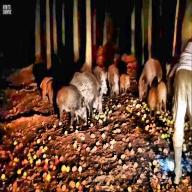boar: (52, 79, 91, 135), (137, 48, 163, 109), (72, 64, 101, 116), (38, 71, 57, 111), (92, 57, 106, 105), (107, 63, 123, 101), (154, 75, 168, 111), (146, 80, 156, 120), (120, 66, 129, 104)
